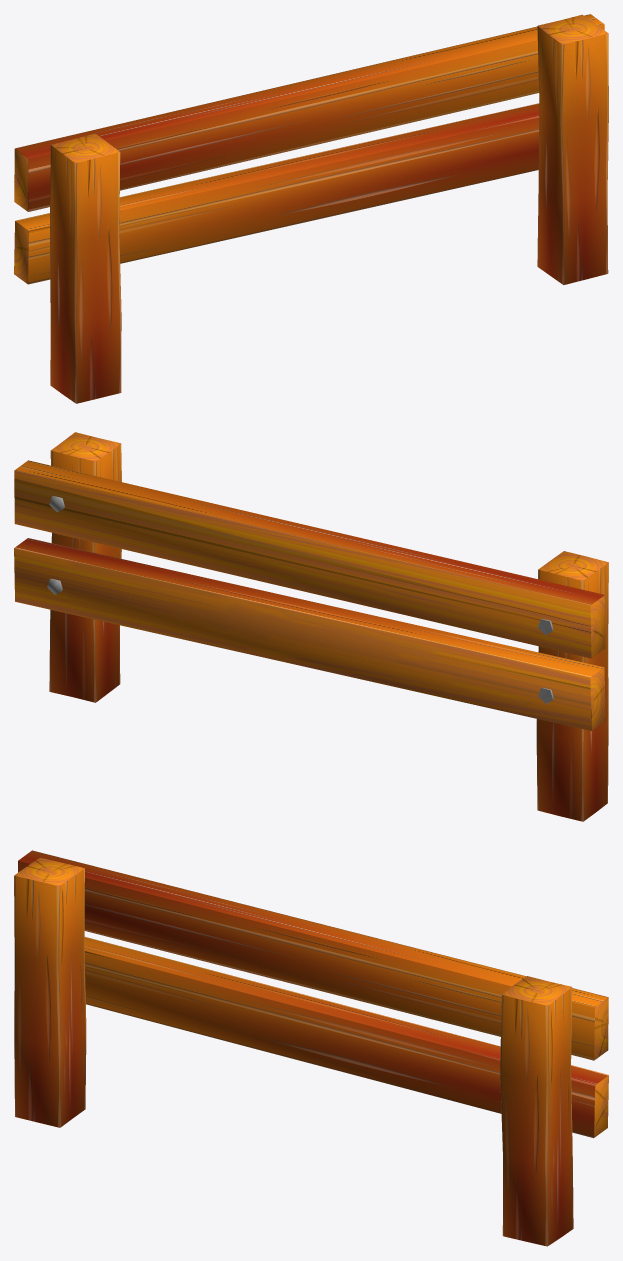
File: WoodenFence.fbx
The picture shows the model from 3 angles, top to bottom: view 1: azimuth 30°, elevation 25°; view 2: azimuth 150°, elevation 25°; view 3: azimuth 330°, elevation 25°; orthographic projection.
Visible parts, largest first — view 1: Fence.001; view 2: Fence.001; view 3: Fence.001.
Boxes of the visible parts, x1=… form: Fence.001: x1=14, y1=14, x2=608, y2=403; Fence.001: x1=14, y1=432, x2=608, y2=821; Fence.001: x1=14, y1=850, x2=608, y2=1246.
Size of the model in its own units: 800 by 320 by 100.
